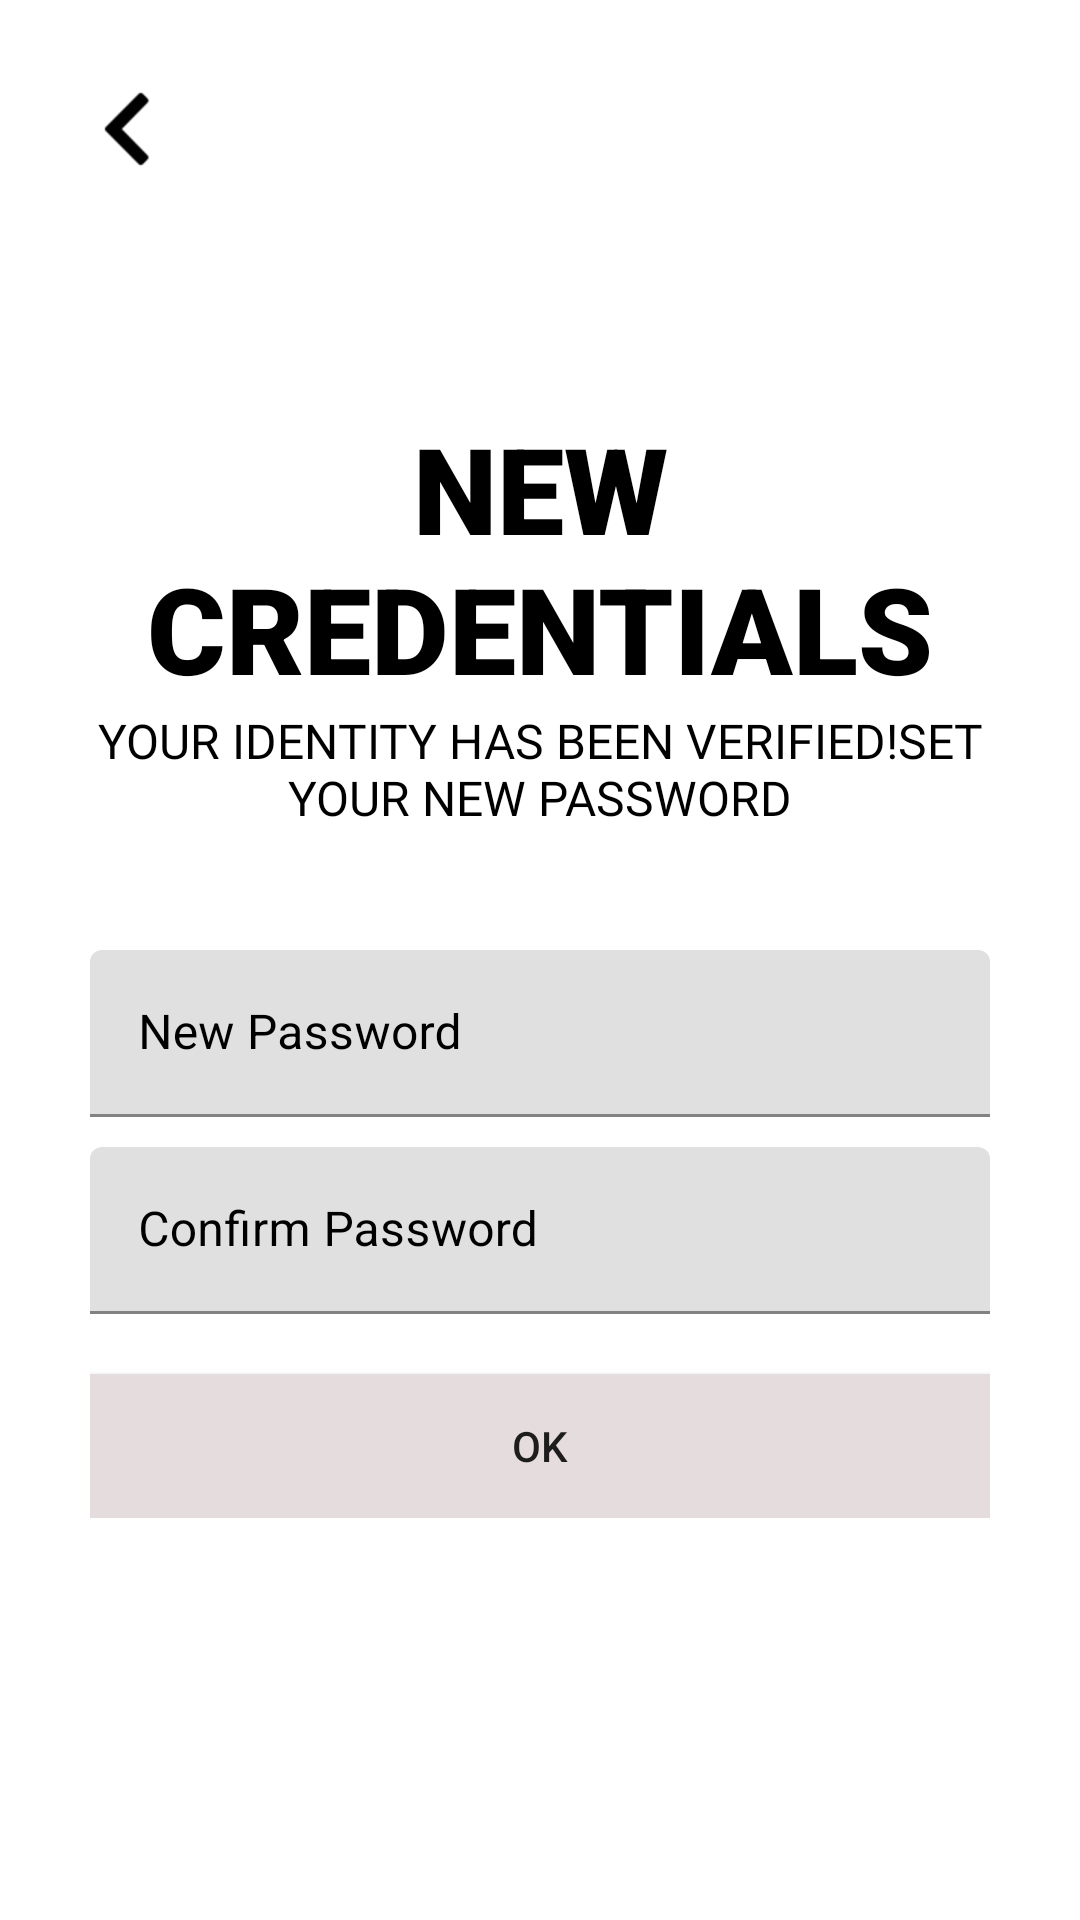

Screen size 1080 x 1920. Icon name, then its center in pixels as [x,y]:
general back: [126,129]
